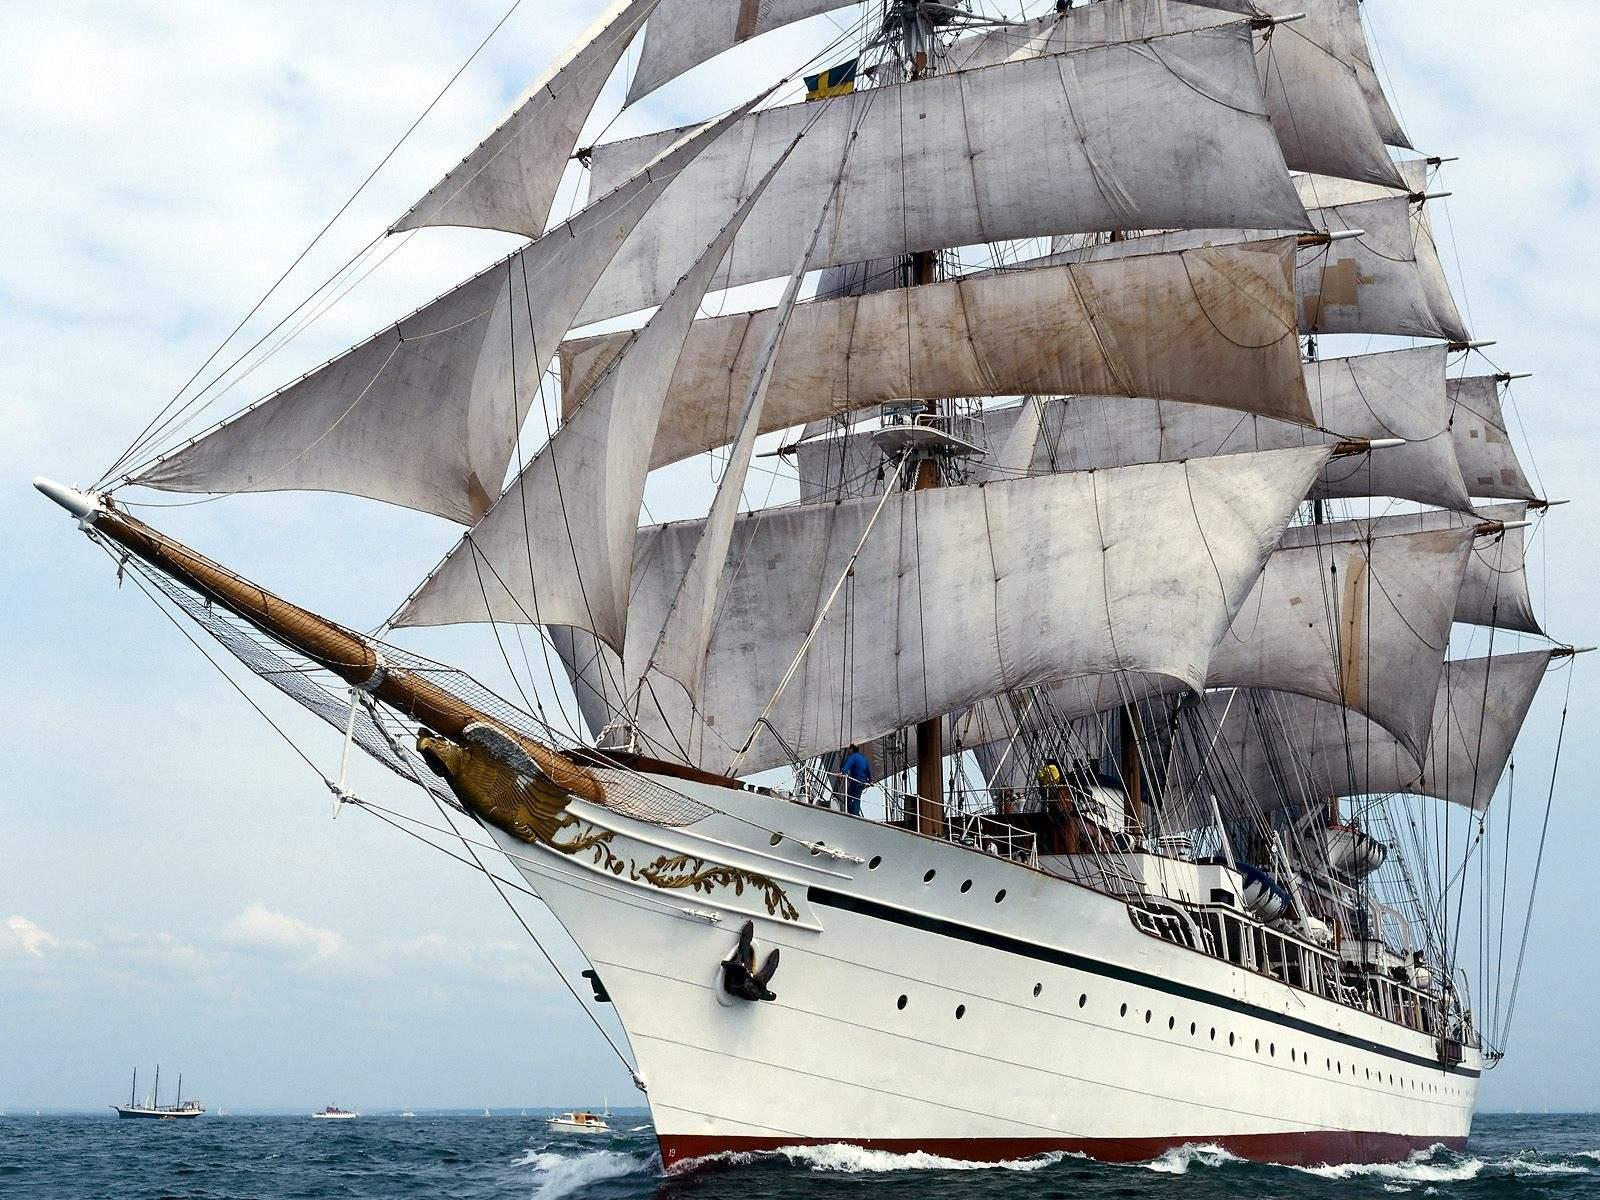fanchuan: (29, 1, 1575, 1175)
